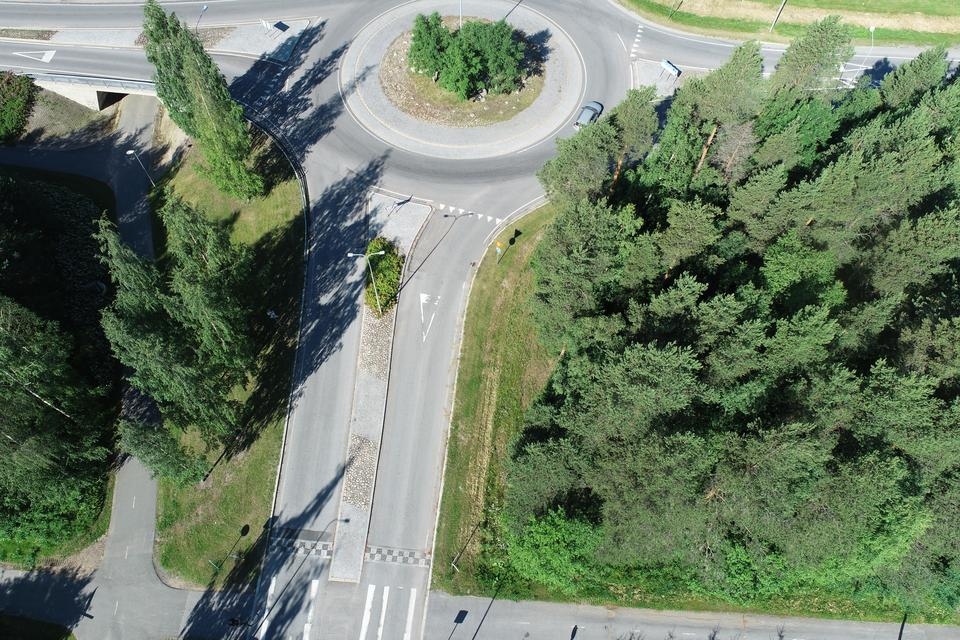intersection: (198, 540, 502, 640)
roundabout: (231, 0, 673, 246)
